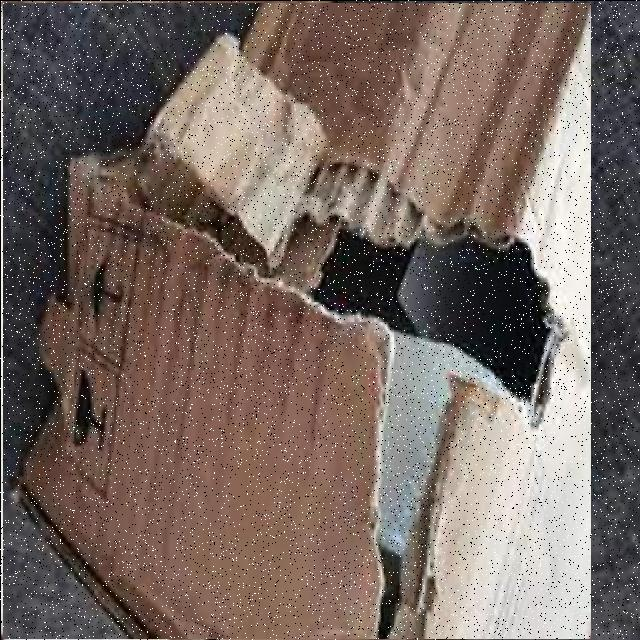defect: (2, 2, 590, 638)
